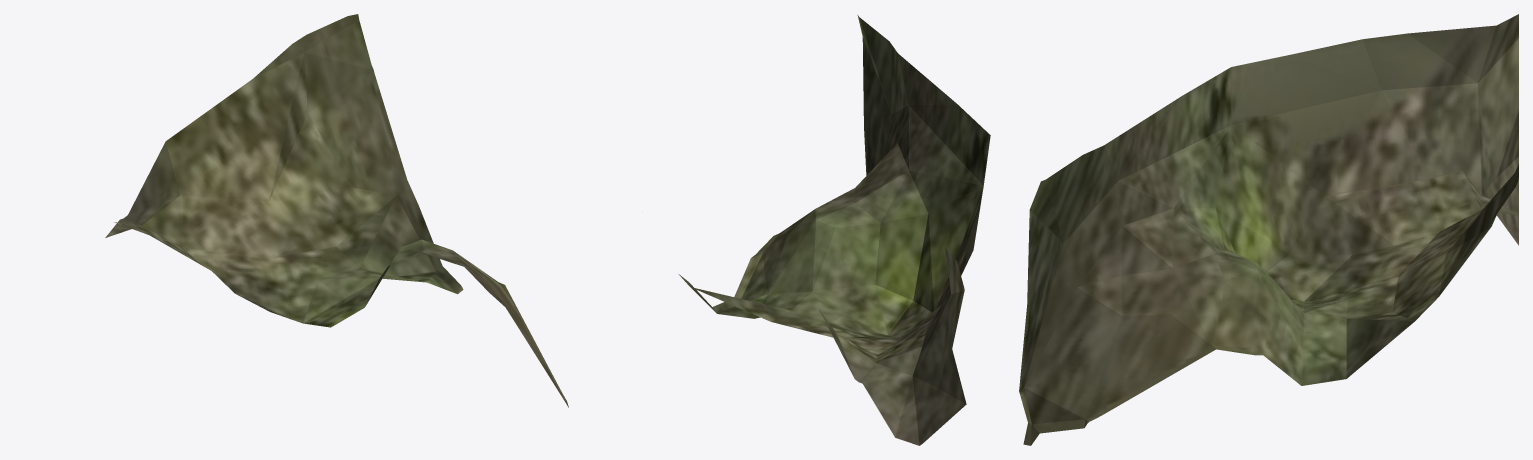
3 views of the same model, side by side, from view 1: azimuth 30°, elevation 25°; view 2: azimuth 150°, elevation 25°; view 3: azimuth 270°, elevation 25° (orthographic). The views are drawn at different scales.
Bounding box in the file's own units: 2.8 × 2 × 3.43.
1 material, 1 textured.
